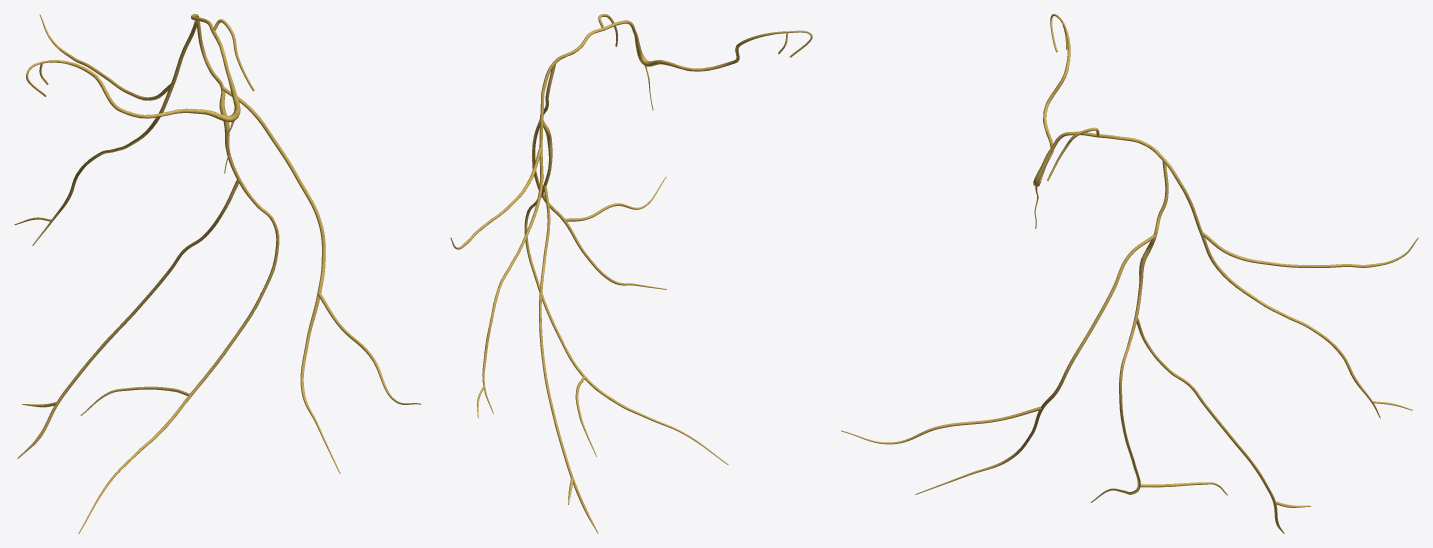
3 views of the same model, side by side, from view 1: azimuth 30°, elevation 25°; view 2: azimuth 150°, elevation 25°; view 3: azimuth 270°, elevation 25° (orthographic). The views are drawn at different scales.
Parts seen in each view (by area): view 1: 左侧面神经; view 2: 左侧面神经; view 3: 左侧面神经.
Part boxes in pixels (box(x1,y1,x2,y2)): 左侧面神经: box(14, 14, 421, 533); 左侧面神经: box(450, 14, 812, 533); 左侧面神经: box(841, 14, 1418, 533).
Size of the model in its own units: 0.0964 by 0.1535 by 0.1711.
